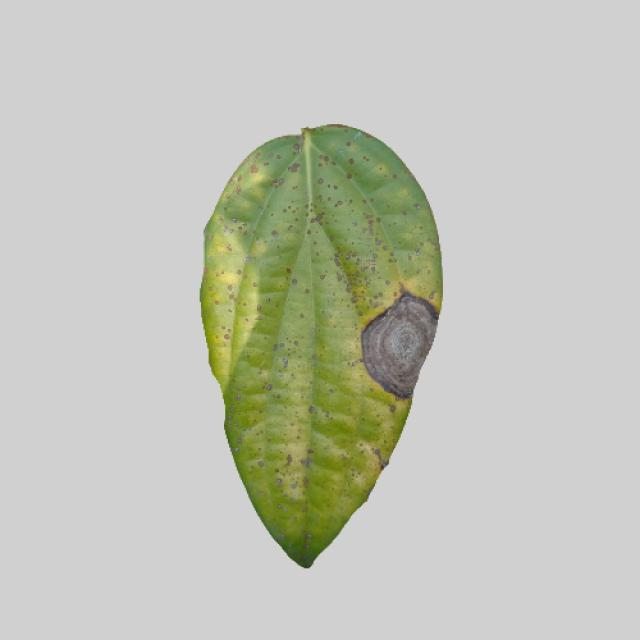leaf-blight: (191, 121, 444, 564)
